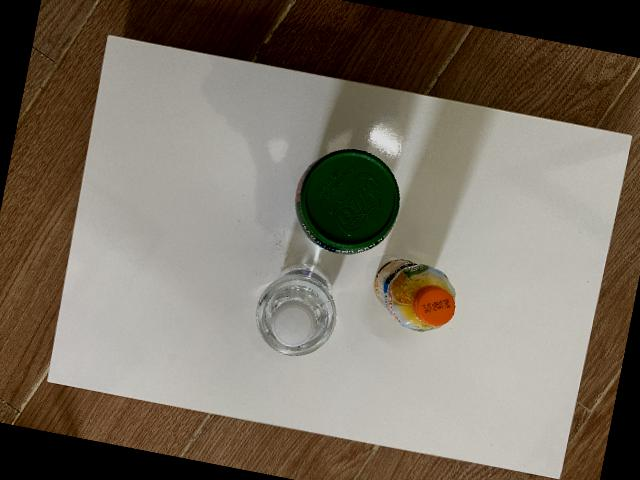aquafina: (254, 263, 336, 356)
milo: (295, 149, 400, 255)
teppy_orange_juice: (373, 258, 456, 333)
